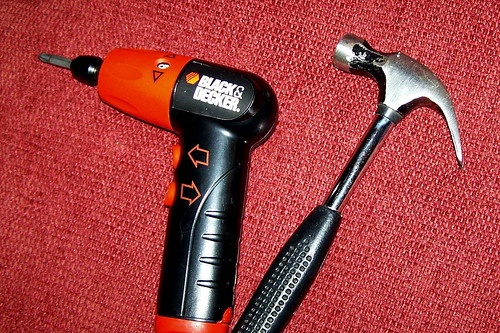hammer: (237, 31, 464, 333)
